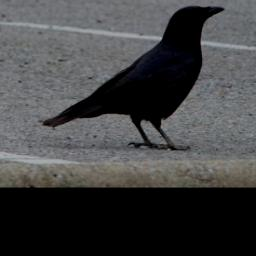Crow: (41, 5, 225, 151)
